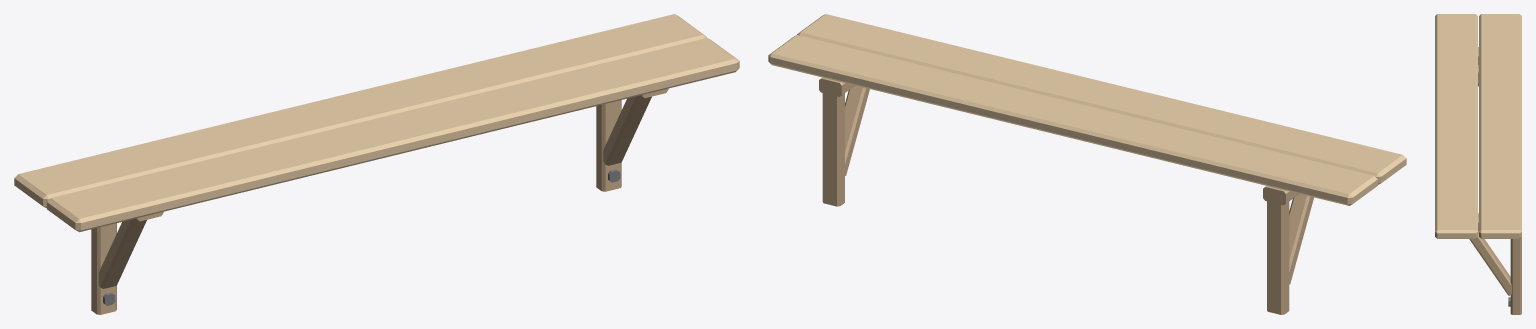
The model's file is repisa .fbx.
The picture shows the model from 3 angles, left to right: view 1: azimuth 30°, elevation 25°; view 2: azimuth 150°, elevation 25°; view 3: azimuth 270°, elevation 25°; orthographic projection. The views are drawn at different scales.
Visible parts, largest first — view 1: Repisa_Inferior_Tabla_1, Repisa_Inferior_Tabla_2, Repisa_Inferior_Soporte_Izq_Tirante, Repisa_Inferior_Soporte_Der_Tirante, Repisa_Inferior_Soporte_Izq_Poste, Repisa_Inferior_Soporte_Der_Poste; view 2: Repisa_Inferior_Tabla_2, Repisa_Inferior_Tabla_1, Repisa_Inferior_Soporte_Der_Poste, Repisa_Inferior_Soporte_Izq_Poste, Repisa_Inferior_Soporte_Izq_Tirante, Repisa_Inferior_Soporte_Der_Tirante, Repisa_Inferior_Soporte_Izq_Taco, Repisa_Inferior_Soporte_Der_Taco; view 3: Repisa_Inferior_Tabla_1, Repisa_Inferior_Tabla_2, Repisa_Inferior_Soporte_Der_Poste, Repisa_Inferior_Soporte_Der_Tirante.
Boxes of the visible parts, bbox=[...] form: Repisa_Inferior_Tabla_1: bbox=[47, 38, 739, 232]; Repisa_Inferior_Tabla_2: bbox=[14, 14, 706, 208]; Repisa_Inferior_Soporte_Izq_Tirante: bbox=[98, 218, 146, 288]; Repisa_Inferior_Soporte_Der_Tirante: bbox=[603, 95, 651, 165]; Repisa_Inferior_Soporte_Izq_Poste: bbox=[91, 223, 116, 314]; Repisa_Inferior_Soporte_Der_Poste: bbox=[596, 100, 621, 191]; Repisa_Inferior_Tabla_2: bbox=[768, 35, 1377, 205]; Repisa_Inferior_Tabla_1: bbox=[797, 14, 1406, 184]; Repisa_Inferior_Soporte_Der_Poste: bbox=[822, 93, 844, 206]; Repisa_Inferior_Soporte_Izq_Poste: bbox=[1267, 201, 1289, 314]; Repisa_Inferior_Soporte_Izq_Tirante: bbox=[1289, 194, 1313, 284]; Repisa_Inferior_Soporte_Der_Tirante: bbox=[845, 85, 869, 175]; Repisa_Inferior_Soporte_Izq_Taco: bbox=[1263, 186, 1298, 205]; Repisa_Inferior_Soporte_Der_Taco: bbox=[819, 77, 854, 96]; Repisa_Inferior_Tabla_1: bbox=[1435, 14, 1477, 238]; Repisa_Inferior_Tabla_2: bbox=[1479, 14, 1521, 238]; Repisa_Inferior_Soporte_Der_Poste: bbox=[1510, 237, 1521, 314]; Repisa_Inferior_Soporte_Der_Tirante: bbox=[1469, 230, 1511, 295].
Bounding box in the file's own units: 166 × 37 × 28.
